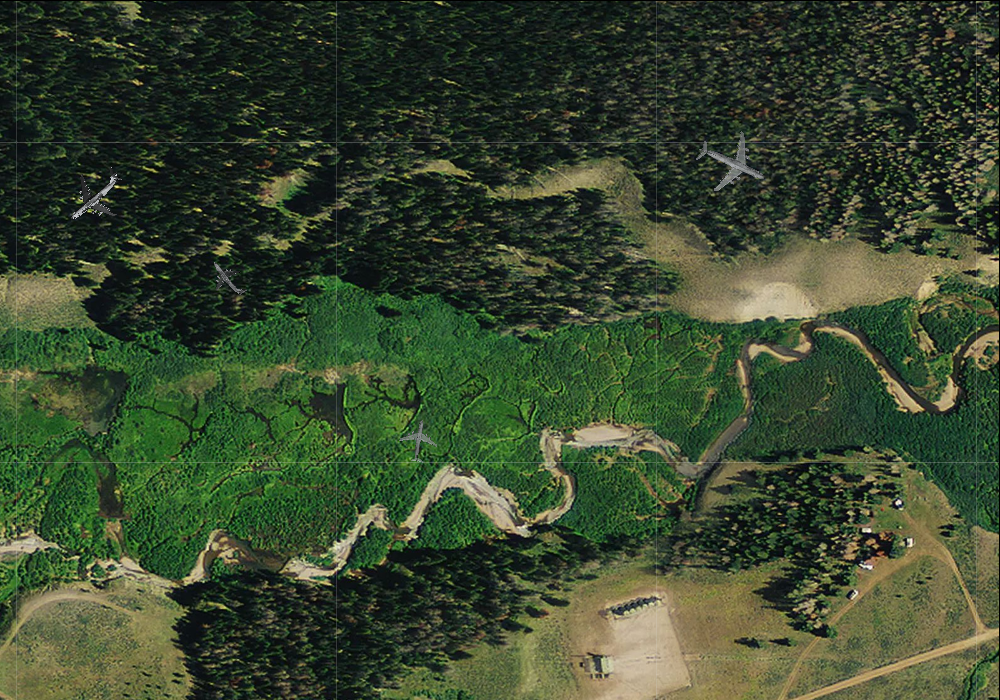plane: (685, 117, 778, 208), (49, 150, 139, 240), (200, 249, 256, 306), (395, 416, 443, 466)
